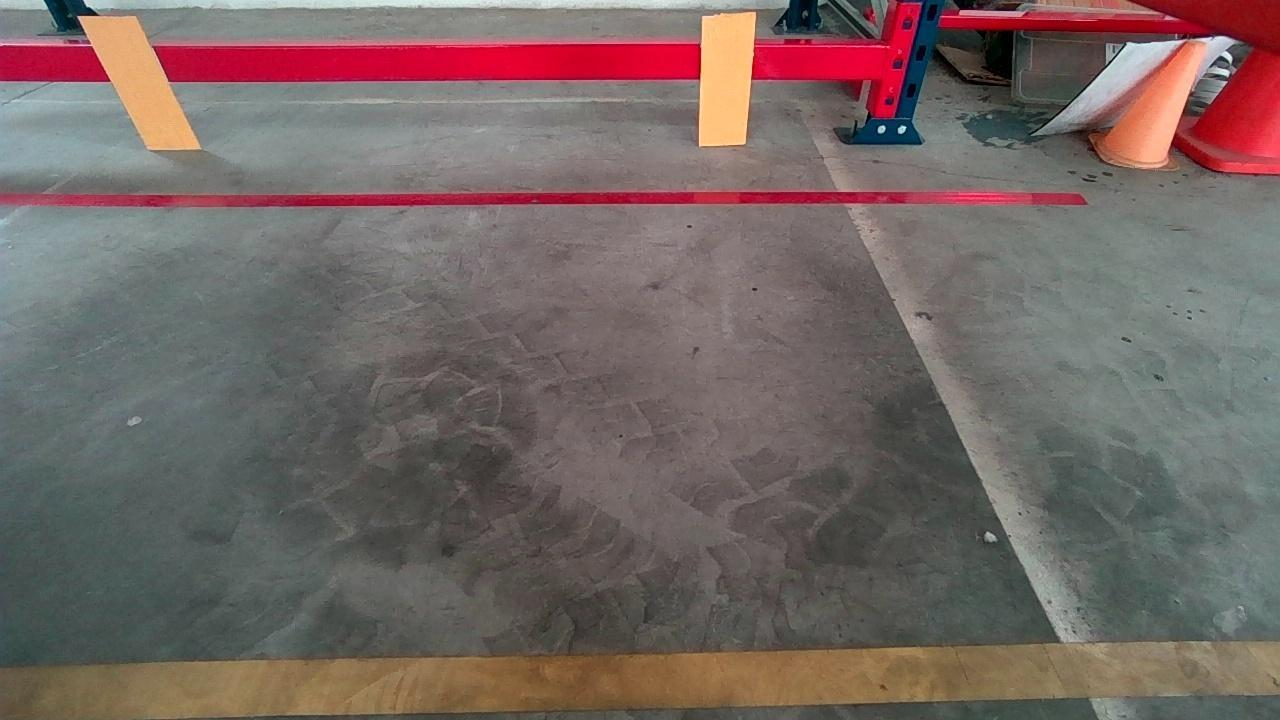h_rack: (11, 40, 887, 87)
orange_strip: (78, 15, 201, 149), (699, 12, 754, 146)
red_line: (5, 182, 1082, 212)
